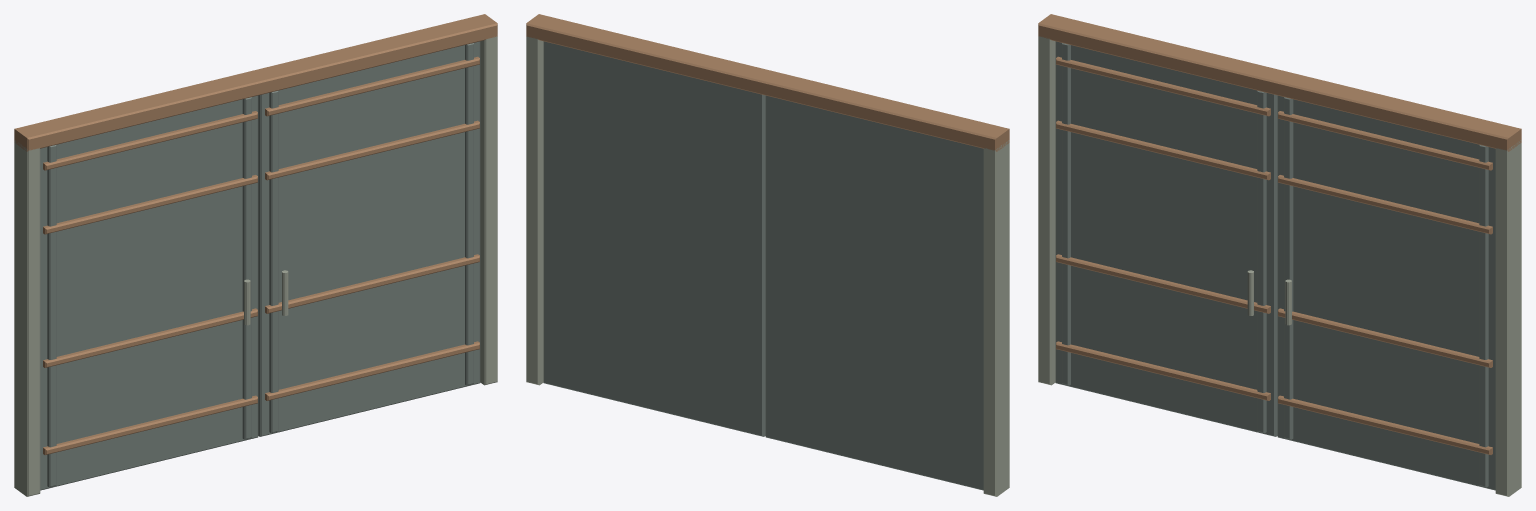
The model's file is MainDoor.fbx.
The picture shows the model from 3 angles, left to right: view 1: azimuth 30°, elevation 25°; view 2: azimuth 150°, elevation 25°; view 3: azimuth 330°, elevation 25°; orthographic projection.
Visible parts, largest first — view 1: DoorLeaf__Steel, DoorFrame__WornSteel, DoorReinforcement__Rust, DoorFrame__Rust, DoorReinforcement__Steel, Handle__WornSteel; view 2: DoorLeaf__Steel, DoorFrame__WornSteel, DoorFrame__Rust; view 3: DoorLeaf__Steel, DoorFrame__WornSteel, DoorReinforcement__Rust, DoorFrame__Rust, DoorReinforcement__Steel, Handle__WornSteel.
Boxes of the visible parts, <box> form: DoorLeaf__Steel: <box>40,41,480,490</box>; DoorFrame__WornSteel: <box>14,36,497,496</box>; DoorReinforcement__Rust: <box>43,56,479,454</box>; DoorFrame__Rust: <box>14,14,497,151</box>; DoorReinforcement__Steel: <box>47,43,473,487</box>; Handle__WornSteel: <box>244,270,288,325</box>; DoorLeaf__Steel: <box>543,41,983,490</box>; DoorFrame__WornSteel: <box>526,36,1009,496</box>; DoorFrame__Rust: <box>526,14,1009,151</box>; DoorLeaf__Steel: <box>1055,41,1495,490</box>; DoorFrame__WornSteel: <box>1038,36,1521,496</box>; DoorReinforcement__Rust: <box>1056,56,1492,454</box>; DoorFrame__Rust: <box>1038,14,1521,151</box>; DoorReinforcement__Steel: <box>1062,43,1488,487</box>; Handle__WornSteel: <box>1247,270,1291,325</box>.
Size of what is drawn, in the model's own units: 4.24 by 3.09 by 0.296.
